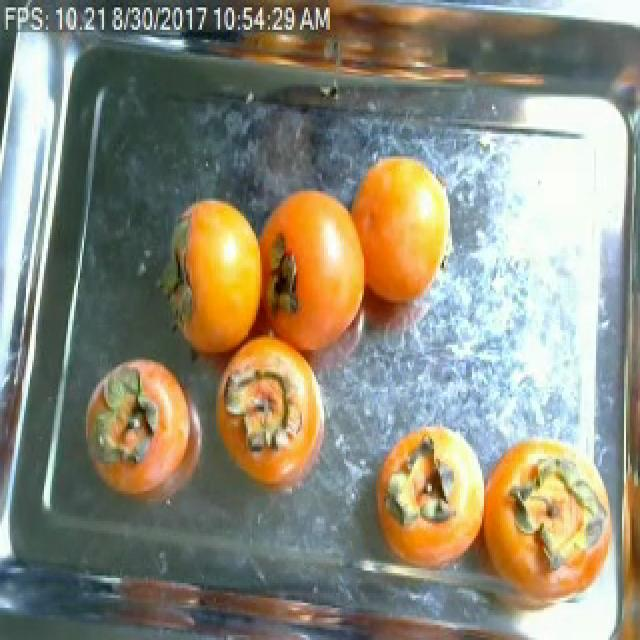Fruit: (78, 345, 212, 518), (340, 141, 466, 320), (162, 186, 282, 360), (372, 414, 492, 534)
